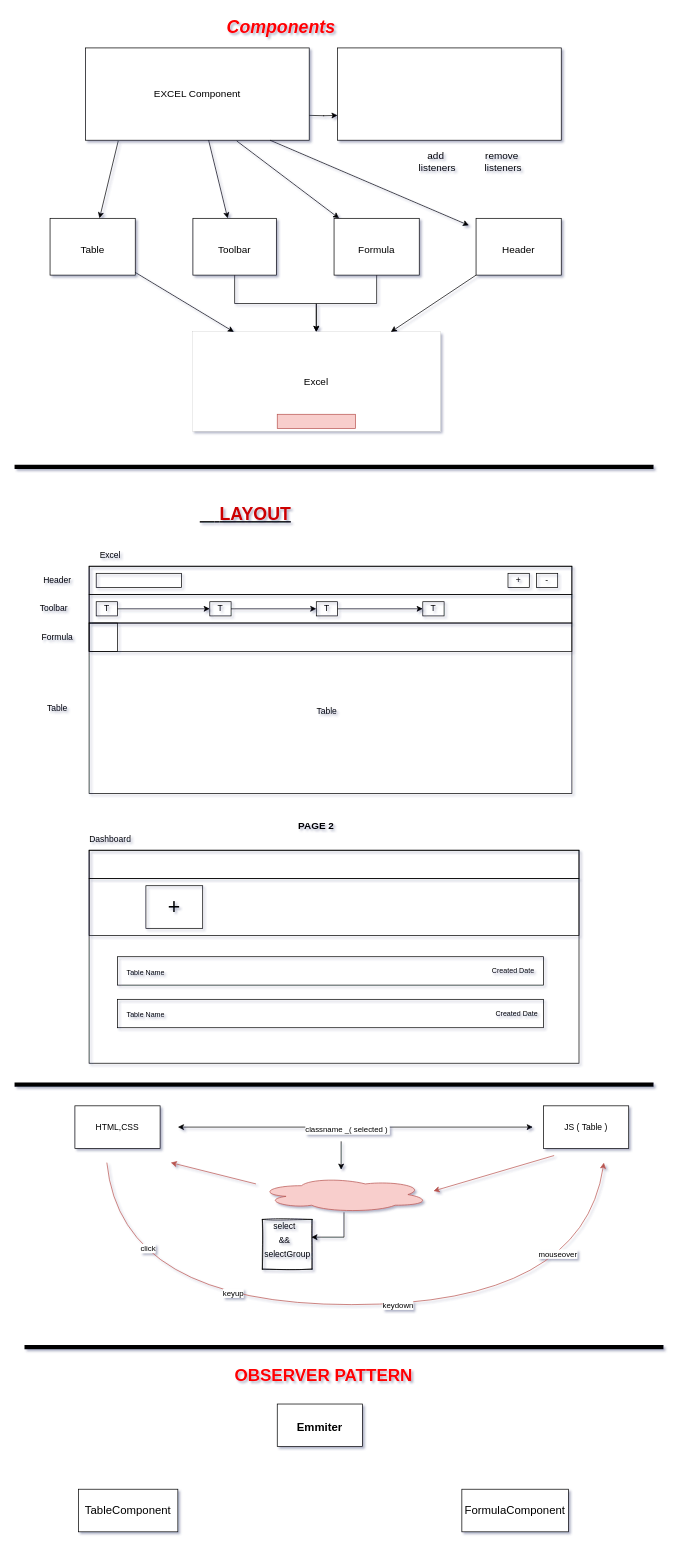
Some shapes in this 682 by 1549 pixel diagram are drawn without their labels. Each missing label, with the centre of its shape:
Class _ TableSelection: [343,1194]
DOM Listener: [449,93]
Excel Dashboard Header: [333,864]
fx: [103,636]
render in HTML: [316,421]
Title: [138,580]
